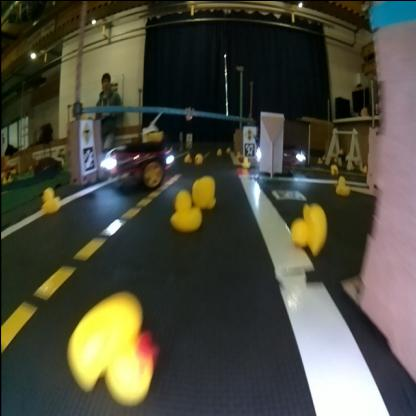Duckie: (69, 291, 158, 401), (293, 201, 325, 252), (171, 189, 200, 229), (192, 175, 216, 205), (42, 186, 61, 212), (336, 175, 350, 193), (242, 156, 250, 165), (196, 152, 203, 160), (185, 152, 191, 160)
QR code: (244, 140, 255, 154)
Signal sign: (244, 126, 255, 140)
